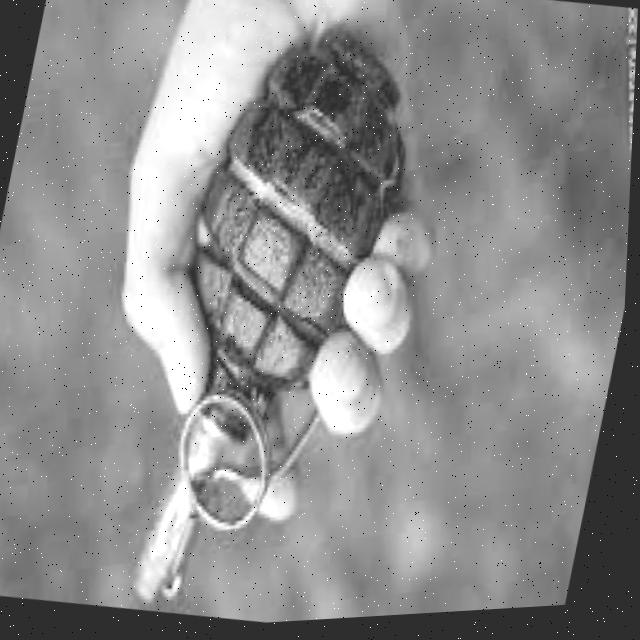grenade: (10, 0, 519, 639)
